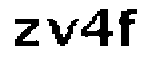4: (79, 6, 117, 48)
f: (116, 7, 143, 48)
v: (44, 15, 79, 49)
z: (5, 15, 42, 50)
